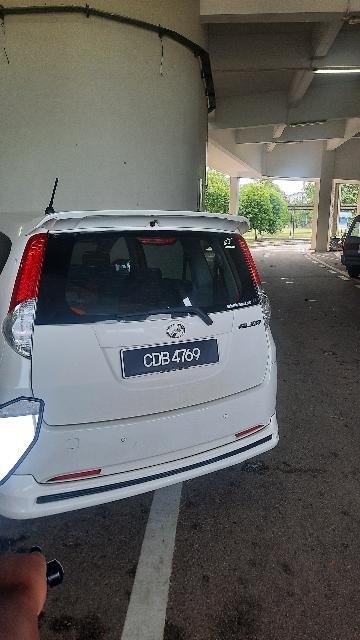License_Plate: (118, 338, 234, 381)
car: (3, 210, 284, 520)
